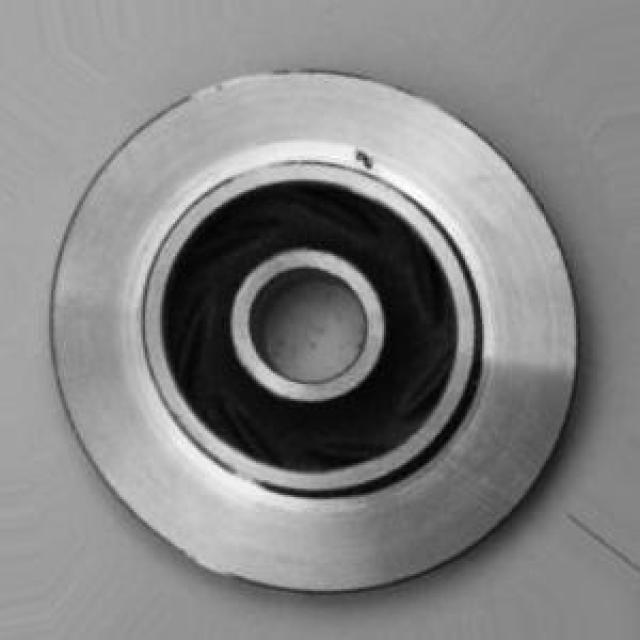Defect: (356, 137, 384, 182)
